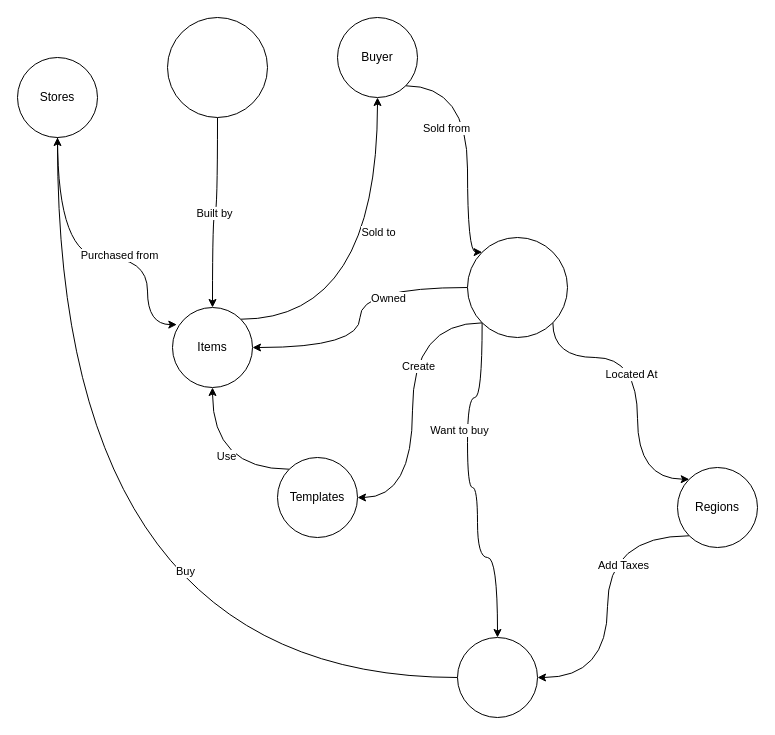
The diagram is 775 pixels wide and 735 high, and some of its shapes have lost their labels. Here are the shapes that lost their labels. From the top down, the centre of each, then its label:
At (x=217, y=67): "Manufacturer".
At (x=517, y=287): "Users".
At (x=497, y=677): "List".
